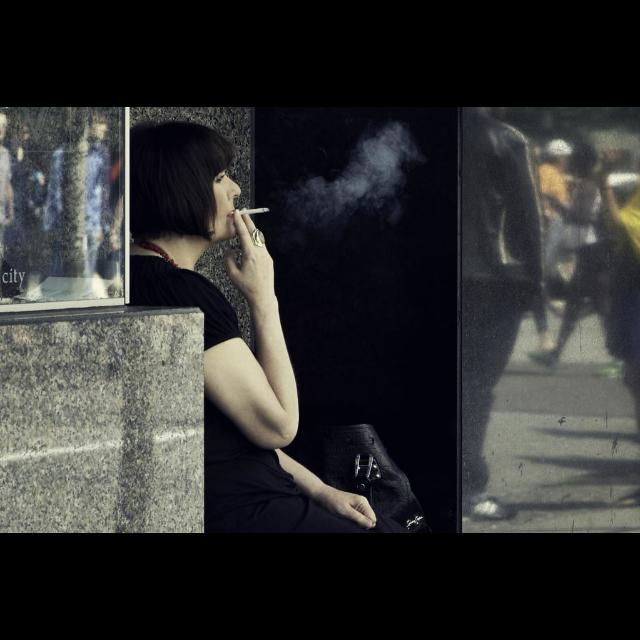rokok: (230, 202, 272, 220)
